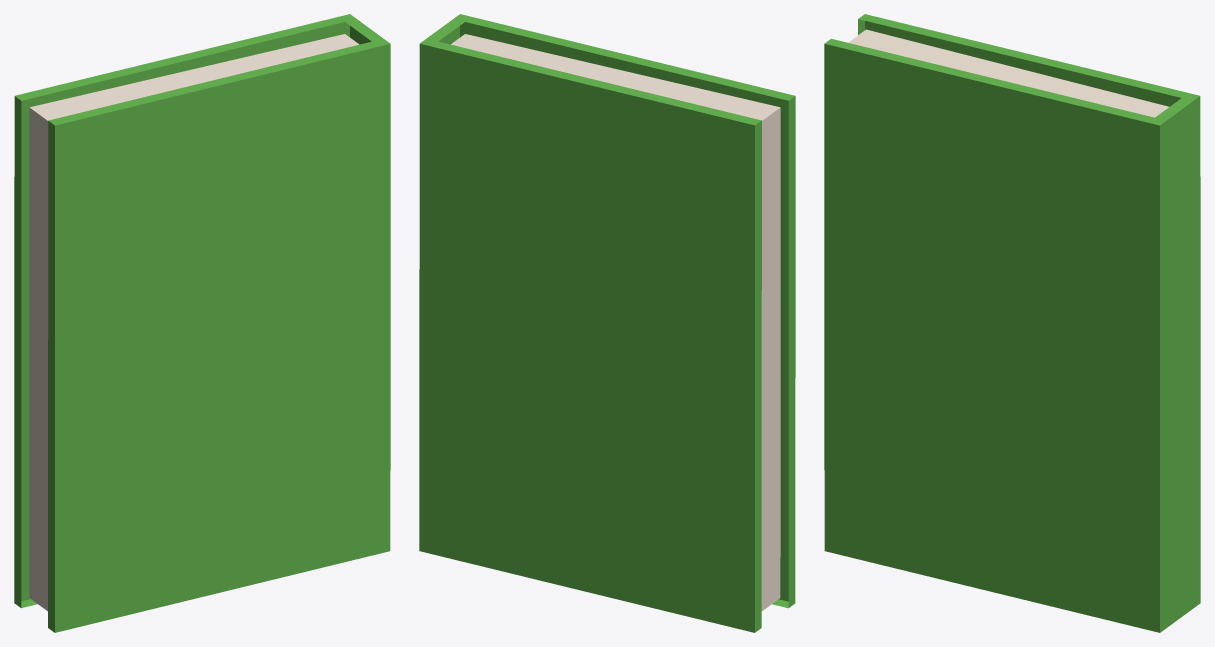
File: Book_1.fbx
3 views of the same model, side by side, from view 1: azimuth 30°, elevation 25°; view 2: azimuth 150°, elevation 25°; view 3: azimuth 330°, elevation 25° (orthographic).
Visible parts, largest first — view 1: Book_1.007; view 2: Book_1.007; view 3: Book_1.007.
Boxes of the visible parts, x1,y1,x2,y2 form: Book_1.007: (14,14,390,632); Book_1.007: (419,14,795,632); Book_1.007: (824,14,1200,632).
Size of the model in its own units: 0.2089 by 0.3019 by 0.0439.
